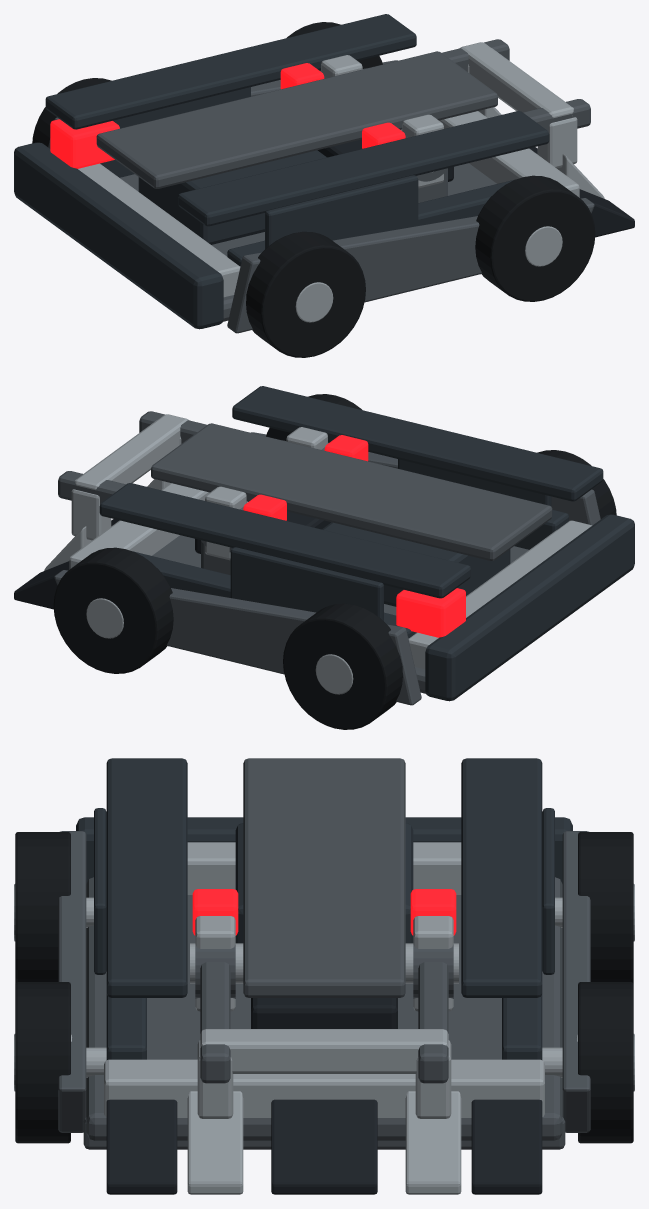
The model's file is TITAN_X_ULTRA_COMPAT_2_82.fbx.
The picture shows the model from 3 angles, top to bottom: view 1: azimuth 30°, elevation 25°; view 2: azimuth 150°, elevation 25°; view 3: azimuth 270°, elevation 25°; orthographic projection. The views are drawn at different scales.
Parts seen in each view (by area): view 1: TXU removable center top cover, TXU rear protective bumper, TXU removable right top cover, TXU removable left top cover, TXU wheel 02, TXU wheel 04, TXU right side guard, TXU right service panel, TXU sealed battery enclosure, TXU rear crossmember, TXU_lift_crossbar, TXU front crossmember (+19 smaller); view 2: TXU removable center top cover, TXU rear protective bumper, TXU removable left top cover, TXU removable right top cover, TXU wheel 01, TXU wheel 03, TXU left side guard, TXU left service panel, TXU_lift_crossbar, TXU rear crossmember, TXU sealed battery enclosure, TXU power isolation module (+21 smaller); view 3: TXU removable center top cover, TXU removable left top cover, TXU removable right top cover, TXU chassis floor, TXU front crossmember, TXU_protective_wedge_C, TXU_lift_crossbar, TXU wheel 01, TXU wheel 02, TXU wheel 03, TXU wheel 04, TXU_protective_wedge_L (+25 smaller).
Boxes of the visible parts, x1,y1,x2,y2 form: TXU removable center top cover: (96,51,497,188); TXU rear protective bumper: (14,142,223,329); TXU removable right top cover: (178,111,549,226); TXU removable left top cover: (45,14,416,129); TXU wheel 02: (475,175,595,301); TXU wheel 04: (246,231,365,357); TXU right side guard: (227,198,594,333); TXU right service panel: (265,175,418,249); TXU sealed battery enclosure: (138,150,326,244); TXU rear crossmember: (78,163,240,297); TXU_lift_crossbar: (460,42,573,117); TXU front crossmember: (439,111,579,197); TXU removable center top cover: (151,423,552,560); TXU rear protective bumper: (425,514,634,701); TXU removable left top cover: (99,483,470,598); TXU removable right top cover: (232,386,603,501); TXU wheel 01: (53,547,173,673); TXU wheel 03: (283,603,402,729); TXU left side guard: (54,570,421,705); TXU left service panel: (230,547,383,621); TXU_lift_crossbar: (75,414,188,489); TXU rear crossmember: (408,520,592,669); TXU sealed battery enclosure: (322,522,510,606); TXU power isolation module: (396,588,465,637); TXU removable center top cover: (243,758,405,997); TXU removable left top cover: (461,758,542,997); TXU removable right top cover: (106,758,187,997); TXU chassis floor: (86,877,562,1140); TXU front crossmember: (104,1059,544,1117); TXU_protective_wedge_C: (271,1099,377,1194); TXU_lift_crossbar: (200,1029,448,1073); TXU wheel 01: (578,982,633,1143); TXU wheel 02: (15,982,70,1143); TXU wheel 03: (578,832,633,983); TXU wheel 04: (15,832,70,983); TXU_protective_wedge_L: (471,1099,542,1194).
Bounding box in the file's own units: 275 × 80 × 245.
